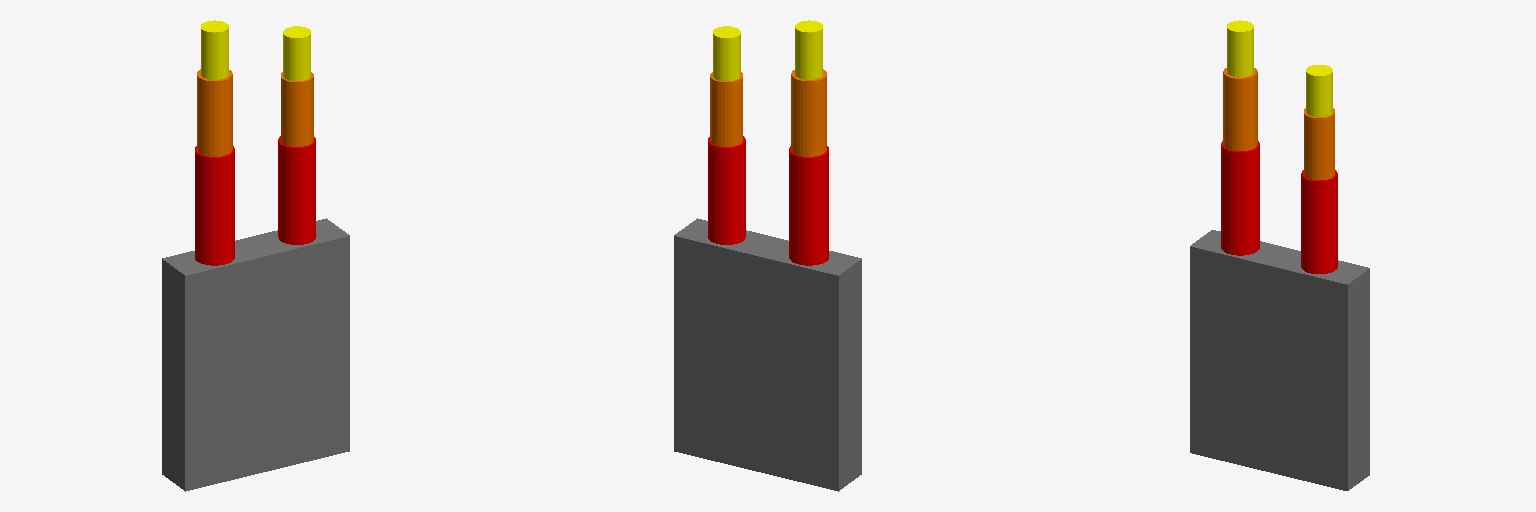
URDF robot description (hand_3r_glove):
<?xml version="1.0"?>
<robot name="hand_3r_glove">

  <!-- PALMO (Base della mano) -->
  <link name="palm_link">
    <visual>
      <origin xyz="0 0 0.05" rpy="0 0 0"/>
      <geometry>
        <box size="0.08 0.02 0.1"/>
      </geometry>
      <material name="grey">
        <color rgba="0.5 0.5 0.5 1.0"/>
      </material>
    </visual>
    <collision>
      <origin xyz="0 0 0.05" rpy="0 0 0"/>
      <geometry>
        <box size="0.08 0.02 0.1"/>
      </geometry>
    </collision>
    <inertial>
      <mass value="0.25"/>
      <inertia ixx="0.0002" ixy="0.0" ixz="0.0" iyy="0.0002" iyz="0.0" izz="0.0001"/>
    </inertial>
  </link>

  <!-- ==================== DITO INDICE (Catena 3R) ==================== -->

  <!-- Falange Prossimale Indice -->
  <link name="index_proximal_link">
    <visual>
      <origin xyz="0 0 0.0225" rpy="0 0 0"/>
      <geometry>
        <cylinder length="0.045" radius="0.008"/>
      </geometry>
      <material name="red">
        <color rgba="1.0 0.0 0.0 1.0"/>
      </material>
    </visual>
    <collision>
      <origin xyz="0 0 0.0225" rpy="0 0 0"/>
      <geometry>
        <cylinder length="0.045" radius="0.008"/>
      </geometry>
    </collision>
    <inertial>
      <mass value="0.02"/>
      <inertia ixx="0.000003" ixy="0.0" ixz="0.0" iyy="0.000003" iyz="0.0" izz="0.000001"/>
    </inertial>
  </link>

  <!-- Giunto MCP Indice (Rotoidale attorno a Y) -->
  <joint name="index_mcp_joint" type="revolute">
    <parent link="palm_link"/>
    <child link="index_proximal_link"/>
    <origin xyz="0.02 0.0 0.1" rpy="0 0 0"/>
    <axis xyz="1 0 0"/>
    <limit effort="5.0" lower="0.0" upper="1.57" velocity="1.5"/>
  </joint>

  <!-- Falange Media Indice -->
  <link name="index_middle_link">
    <visual>
      <origin xyz="0 0 0.015" rpy="0 0 0"/>
      <geometry>
        <cylinder length="0.03" radius="0.007"/>
      </geometry>
      <material name="orange">
        <color rgba="1.0 0.5 0.0 1.0"/>
      </material>
    </visual>
    <collision>
      <origin xyz="0 0 0.015" rpy="0 0 0"/>
      <geometry>
        <cylinder length="0.03" radius="0.007"/>
      </geometry>
    </collision>
    <inertial>
      <mass value="0.015"/>
      <inertia ixx="0.000001" ixy="0.0" ixz="0.0" iyy="0.000001" iyz="0.0" izz="0.0000005"/>
    </inertial>
  </link>

  <!-- Giunto PIP Indice (Rotoidale attorno a Y) -->
  <joint name="index_pip_joint" type="revolute">
    <parent link="index_proximal_link"/>
    <child link="index_middle_link"/>
    <origin xyz="0.0 0.0 0.045" rpy="0 0 0"/>
    <axis xyz="1 0 0"/>
    <limit effort="3.0" lower="0.0" upper="1.74" velocity="2.0"/>
  </joint>

  <!-- Falange Distale Indice -->
  <link name="index_distal_link">
    <visual>
      <origin xyz="0 0 0.01" rpy="0 0 0"/>
      <geometry>
        <cylinder length="0.02" radius="0.006"/>
      </geometry>
      <material name="yellow">
        <color rgba="1.0 1.0 0.0 1.0"/>
      </material>
    </visual>
    <collision>
      <origin xyz="0 0 0.01" rpy="0 0 0"/>
      <geometry>
        <cylinder length="0.02" radius="0.006"/>
      </geometry>
    </collision>
    <inertial>
      <mass value="0.01"/>
      <inertia ixx="0.0000005" ixy="0.0" ixz="0.0" iyy="0.0000005" iyz="0.0" izz="0.0000002"/>
    </inertial>
  </link>

  <!-- Giunto DIP Indice (Rotoidale attorno a Y) -->
  <joint name="index_dip_joint" type="revolute">
    <parent link="index_middle_link"/>
    <child link="index_distal_link"/>
    <origin xyz="0.0 0.0 0.03" rpy="0 0 0"/>
    <axis xyz="1 0 0"/>
    <limit effort="2.0" lower="0.0" upper="1.39" velocity="2.5"/>
  </joint>

  <!-- ==================== DITO MEDIO (Catena 3R) ==================== -->

  <!-- Falange Prossimale Medio -->
  <link name="middle_proximal_link">
    <visual>
      <origin xyz="0 0 0.025" rpy="0 0 0"/>
      <geometry>
        <cylinder length="0.05" radius="0.0085"/>
      </geometry>
      <material name="red"/>
    </visual>
    <collision>
      <origin xyz="0 0 0.025" rpy="0 0 0"/>
      <geometry>
        <cylinder length="0.05" radius="0.0085"/>
      </geometry>
    </collision>
    <inertial>
      <mass value="0.022"/>
      <inertia ixx="0.000004" ixy="0.0" ixz="0.0" iyy="0.000004" iyz="0.0" izz="0.000001"/>
    </inertial>
  </link>

  <!-- Giunto MCP Medio -->
  <joint name="middle_mcp_joint" type="revolute">
    <parent link="palm_link"/>
    <child link="middle_proximal_link"/>
    <origin xyz="-0.02 0.0 0.1" rpy="0 0 0"/>
    <axis xyz="1 0 0"/>
    <limit effort="5.0" lower="0.0" upper="1.57" velocity="1.5"/>
  </joint>

  <!-- Falange Media Medio -->
  <link name="middle_middle_link">
    <visual>
      <origin xyz="0 0 0.0175" rpy="0 0 0"/>
      <geometry>
        <cylinder length="0.035" radius="0.0075"/>
      </geometry>
      <material name="orange"/>
    </visual>
    <collision>
      <origin xyz="0 0 0.0175" rpy="0 0 0"/>
      <geometry>
        <cylinder length="0.035" radius="0.0075"/>
      </geometry>
    </collision>
    <inertial>
      <mass value="0.017"/>
      <inertia ixx="0.000002" ixy="0.0" ixz="0.0" iyy="0.000002" iyz="0.0" izz="0.0000006"/>
    </inertial>
  </link>

  <!-- Giunto PIP Medio -->
  <joint name="middle_pip_joint" type="revolute">
    <parent link="middle_proximal_link"/>
    <child link="middle_middle_link"/>
    <origin xyz="0.0 0.0 0.05" rpy="0 0 0"/>
    <axis xyz="1 0 0"/>
    <limit effort="3.0" lower="0.0" upper="1.74" velocity="2.0"/>
  </joint>

  <!-- Falange Distale Medio -->
  <link name="middle_distal_link">
    <visual>
      <origin xyz="0 0 0.011" rpy="0 0 0"/>
      <geometry>
        <cylinder length="0.022" radius="0.006"/>
      </geometry>
      <material name="yellow"/>
    </visual>
    <collision>
      <origin xyz="0 0 0.011" rpy="0 0 0"/>
      <geometry>
        <cylinder length="0.022" radius="0.006"/>
      </geometry>
    </collision>
    <inertial>
      <mass value="0.011"/>
      <inertia ixx="0.0000006" ixy="0.0" ixz="0.0" iyy="0.0000006" iyz="0.0" izz="0.0000002"/>
    </inertial>
  </link>

  <!-- Giunto DIP Medio -->
  <joint name="middle_dip_joint" type="revolute">
    <parent link="middle_middle_link"/>
    <child link="middle_distal_link"/>
    <origin xyz="0.0 0.0 0.035" rpy="0 0 0"/>
    <axis xyz="1 0 0"/>
    <limit effort="2.0" lower="0.0" upper="1.39" velocity="2.5"/>
  </joint>

</robot>

--- Render facts (derived) ---
Views: 3 orthographic renders of the robot side by side, from view 1: azimuth 30°, elevation 25°; view 2: azimuth 150°, elevation 25°; view 3: azimuth 330°, elevation 25°.
Model hand_3r_glove with 7 links and 6 joints (6 revolute), rooted at palm_link, posed every joint at zero.
Visible links, largest first — view 1: palm_link, middle_proximal_link, index_proximal_link, middle_middle_link, index_middle_link, middle_distal_link, index_distal_link; view 2: palm_link, middle_proximal_link, index_proximal_link, middle_middle_link, index_middle_link, middle_distal_link, index_distal_link; view 3: palm_link, middle_proximal_link, index_proximal_link, middle_middle_link, index_middle_link, middle_distal_link, index_distal_link.
Link boxes in pixels (box(x1,y1,x2,y2)): palm_link: box(162, 218, 349, 491); middle_proximal_link: box(195, 146, 234, 265); index_proximal_link: box(278, 136, 315, 244); middle_middle_link: box(197, 69, 232, 156); index_middle_link: box(281, 72, 313, 146); middle_distal_link: box(201, 20, 228, 79); index_distal_link: box(283, 26, 310, 80); palm_link: box(674, 218, 861, 491); middle_proximal_link: box(789, 146, 828, 265); index_proximal_link: box(708, 136, 745, 244); middle_middle_link: box(791, 69, 826, 156); index_middle_link: box(710, 72, 742, 146); middle_distal_link: box(795, 20, 822, 79); index_distal_link: box(713, 26, 740, 80); palm_link: box(1190, 230, 1369, 490); middle_proximal_link: box(1221, 141, 1259, 255); index_proximal_link: box(1301, 170, 1337, 273); middle_middle_link: box(1223, 68, 1257, 150); index_middle_link: box(1304, 108, 1334, 179); middle_distal_link: box(1227, 20, 1253, 77); index_distal_link: box(1306, 65, 1332, 116).
Size in the robot's own frame: 0.08 by 0.02 by 0.207 metres.
Geometry: primitives only (box / cylinder / sphere), no mesh files.
